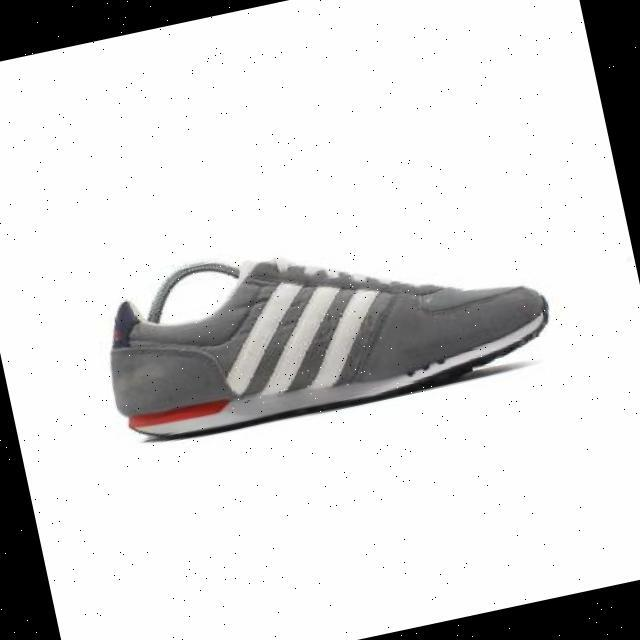Adidas: (203, 259, 404, 413)
